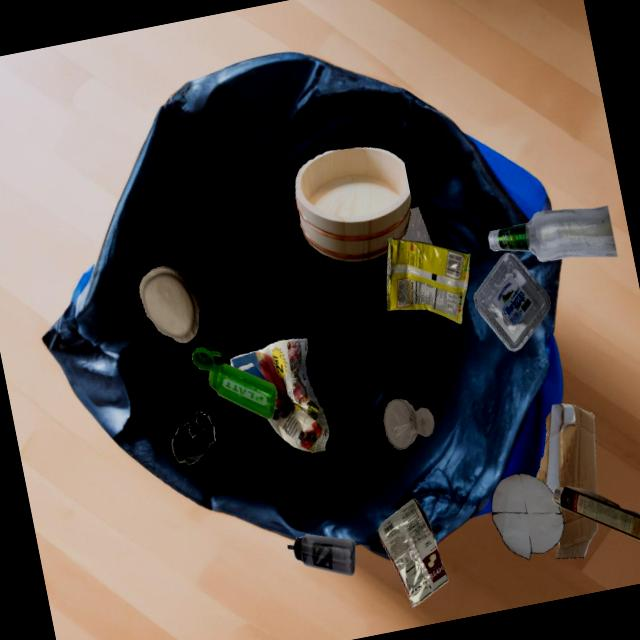cardboard: (537, 403, 596, 494), (553, 486, 640, 541), (555, 505, 598, 558)
combustible waste: (295, 147, 412, 262)
glass: (488, 206, 618, 262), (384, 399, 434, 450)
paper: (230, 339, 329, 453), (491, 473, 564, 560), (139, 266, 199, 343)
plastic: (377, 499, 449, 607), (474, 252, 551, 352), (192, 347, 277, 419), (287, 534, 356, 576), (172, 409, 216, 465), (401, 207, 433, 245)
trash: (386, 238, 471, 325)
